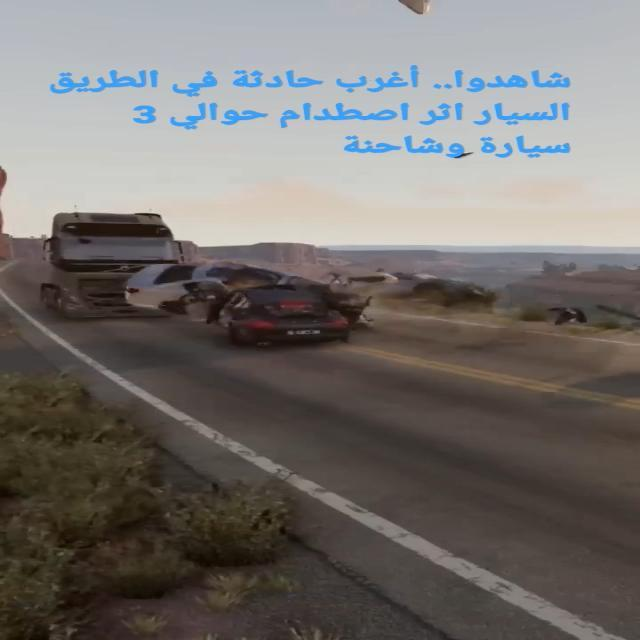accident: (113, 257, 398, 356)
